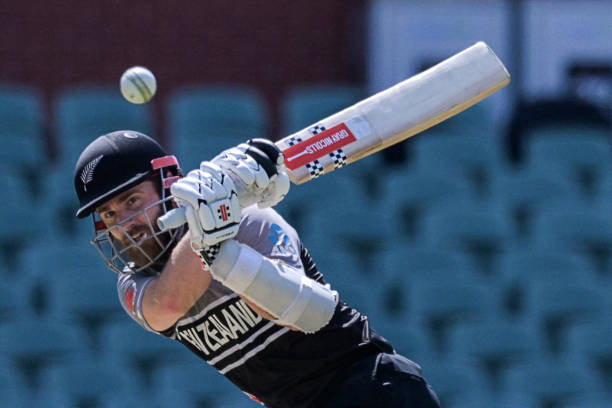bottom left: (491, 65, 524, 92)
bottom right: (461, 25, 499, 56)
top left: (285, 169, 313, 194)
